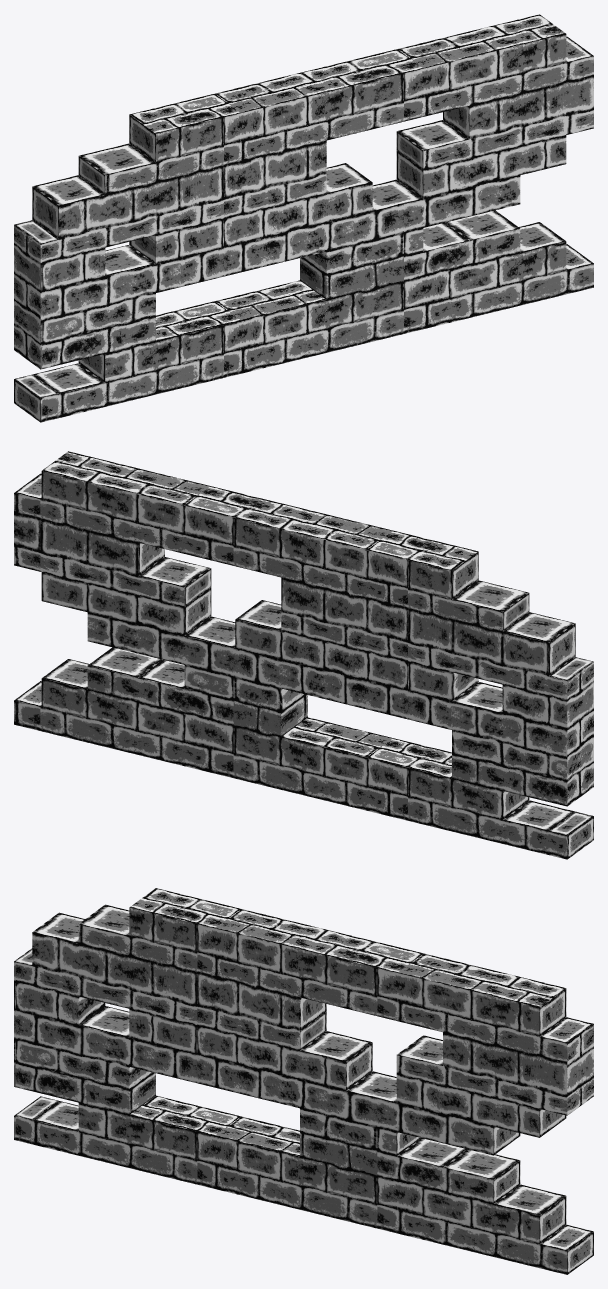
File: wall.obj
3 views of the same model, one above another, from view 1: azimuth 30°, elevation 25°; view 2: azimuth 150°, elevation 25°; view 3: azimuth 330°, elevation 25° (orthographic).
Visible parts, largest first — view 1: Plane.001; view 2: Plane.001; view 3: Plane.001.
Boxes of the visible parts, left/top/right/bottom form: Plane.001: left=14, top=14, right=593, bottom=422; Plane.001: left=14, top=451, right=593, bottom=859; Plane.001: left=14, top=888, right=593, bottom=1274.
Bounding box in the file's own units: 120 × 54 × 10.
